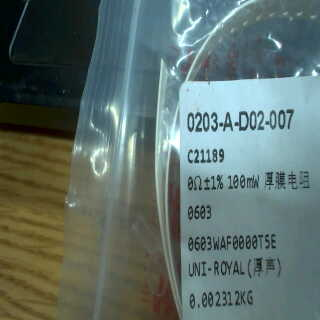0R: (187, 173, 266, 221)
